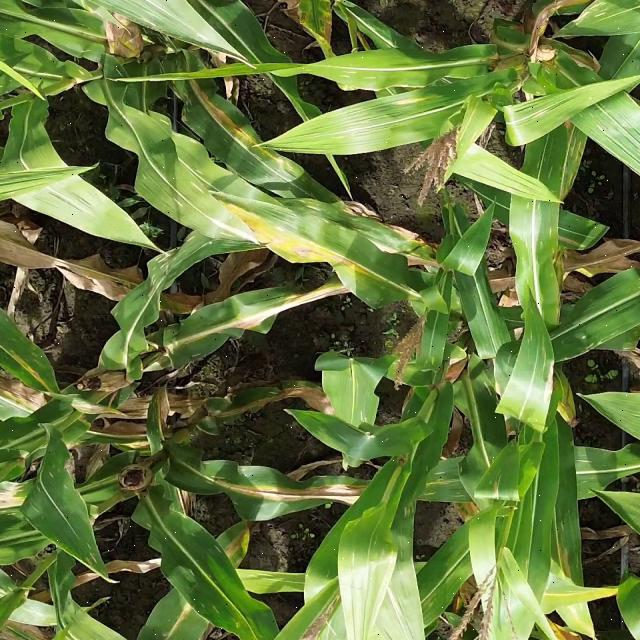gray-leaf-spot: (174, 521, 230, 617), (145, 234, 209, 290), (136, 2, 213, 44), (135, 167, 213, 207), (248, 156, 320, 197), (570, 83, 625, 135), (521, 202, 558, 273), (536, 141, 583, 190), (413, 463, 469, 504), (324, 62, 403, 90), (332, 207, 401, 239), (0, 332, 49, 377), (342, 540, 394, 578), (575, 0, 631, 34), (550, 512, 580, 573), (384, 493, 416, 547), (38, 460, 76, 504), (569, 452, 607, 495), (169, 69, 197, 123), (345, 397, 379, 433), (145, 401, 169, 443)
northern-leaf-blight: (200, 460, 357, 510), (189, 291, 319, 339), (264, 226, 374, 274), (189, 87, 257, 147), (201, 392, 290, 428), (528, 342, 561, 412), (526, 0, 566, 53), (555, 226, 595, 255)
